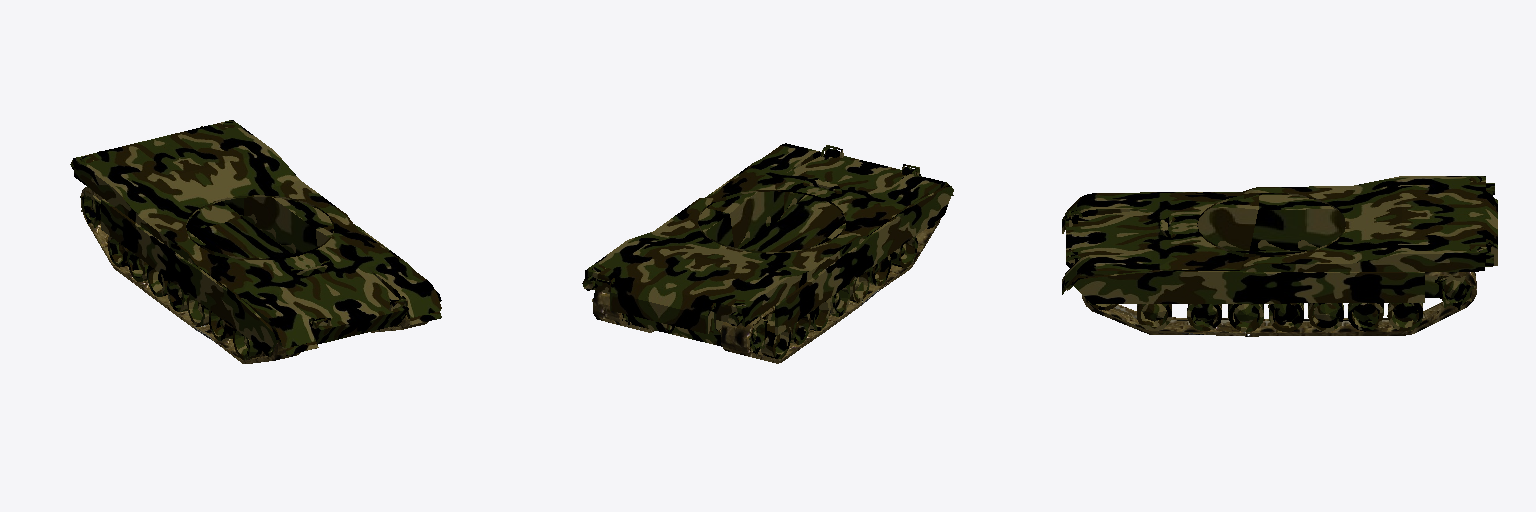
3 renders of one model, left to right at view 1: azimuth 30°, elevation 25°; view 2: azimuth 150°, elevation 25°; view 3: azimuth 270°, elevation 25°, orthographic.
Visible parts, largest first — view 1: Main_Body, Main_Wheel, Track, Main_Rotor; view 2: Main_Body, Main_Wheel, Track; view 3: Main_Body, Main_Wheel, Track, Main_Rotor.
Part boxes in pixels (x1,y1,x2,y2): Main_Body: (70, 120, 441, 355); Main_Wheel: (107, 236, 400, 359); Track: (81, 187, 428, 363); Main_Rotor: (80, 189, 100, 227); Main_Body: (582, 143, 953, 346); Main_Wheel: (761, 221, 936, 358); Track: (593, 218, 940, 363); Main_Body: (1062, 176, 1497, 304); Main_Wheel: (1089, 302, 1422, 331); Track: (1082, 272, 1476, 336); Main_Rotor: (1435, 274, 1473, 309).
Size of the model in its own units: 2.52 by 1.26 by 5.78.
Materials: 2 (2 with a texture image).